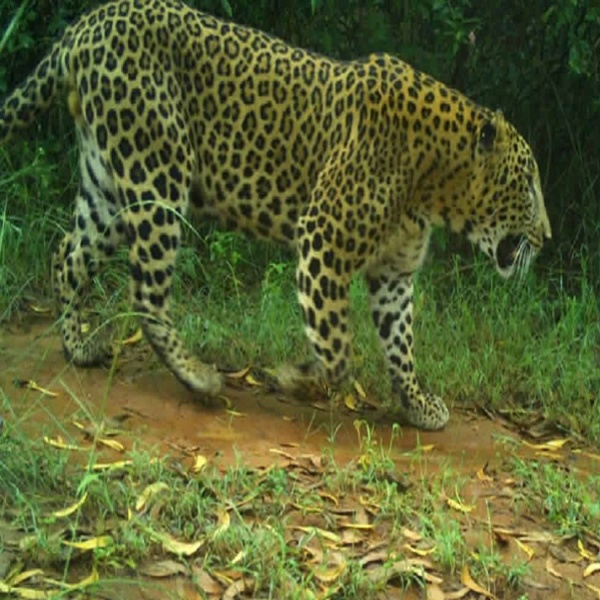Leopard: (3, 4, 557, 436)
